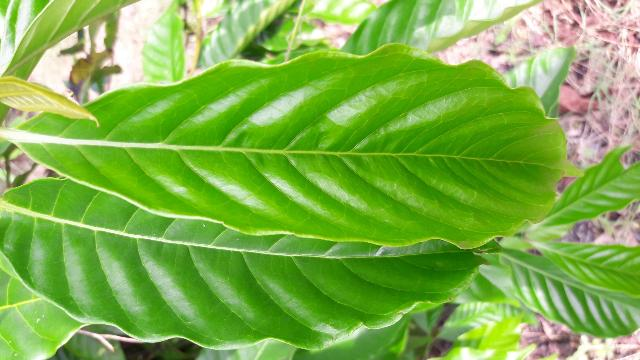healthy: (12, 43, 584, 247)
